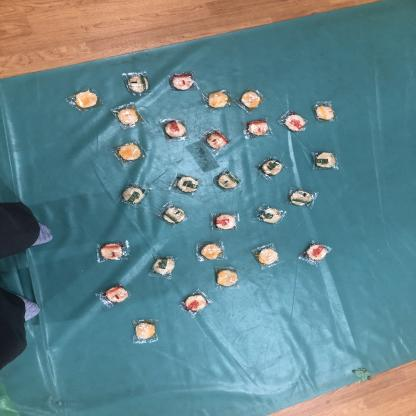green_setoshio: (113, 180, 150, 208), (118, 69, 155, 96), (252, 202, 287, 228), (211, 168, 247, 192), (254, 154, 288, 179), (286, 186, 320, 210), (158, 202, 188, 226), (309, 151, 343, 172), (174, 174, 203, 196), (152, 254, 177, 279)
red_setoshio: (92, 279, 132, 309), (177, 288, 213, 316), (93, 236, 129, 262), (301, 239, 334, 266), (275, 107, 310, 132), (207, 210, 245, 232), (158, 115, 190, 141), (166, 70, 200, 92), (201, 127, 231, 150), (244, 117, 270, 138)
yellow_setoshio: (129, 316, 164, 344), (111, 103, 147, 129), (250, 242, 283, 270), (68, 86, 103, 112), (113, 141, 147, 165), (235, 86, 269, 110), (192, 238, 226, 262), (202, 88, 233, 110), (312, 101, 340, 121), (213, 268, 240, 288)
